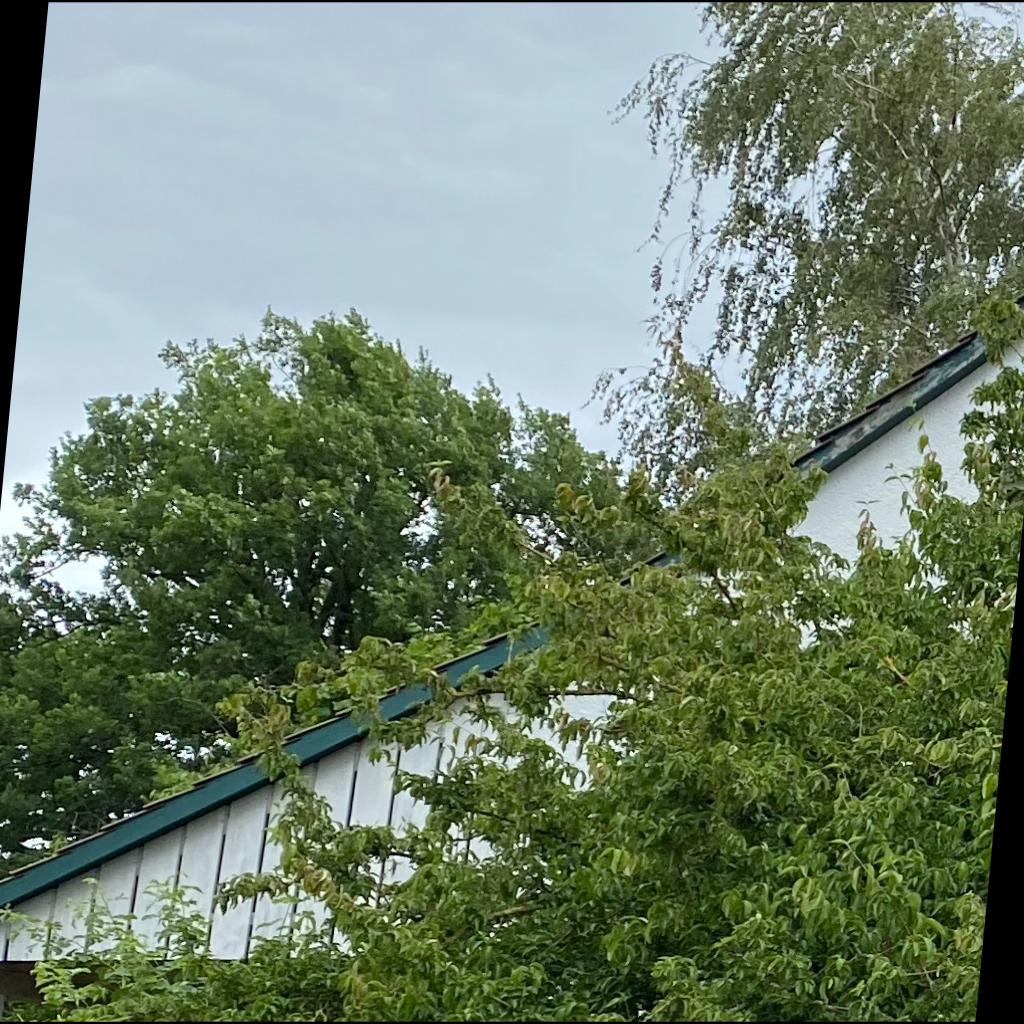tree: (210, 300, 1023, 1021), (1, 307, 625, 878), (578, 1, 1024, 509)
